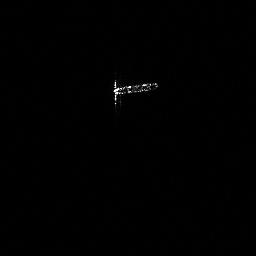ship: (108, 76, 161, 108)
